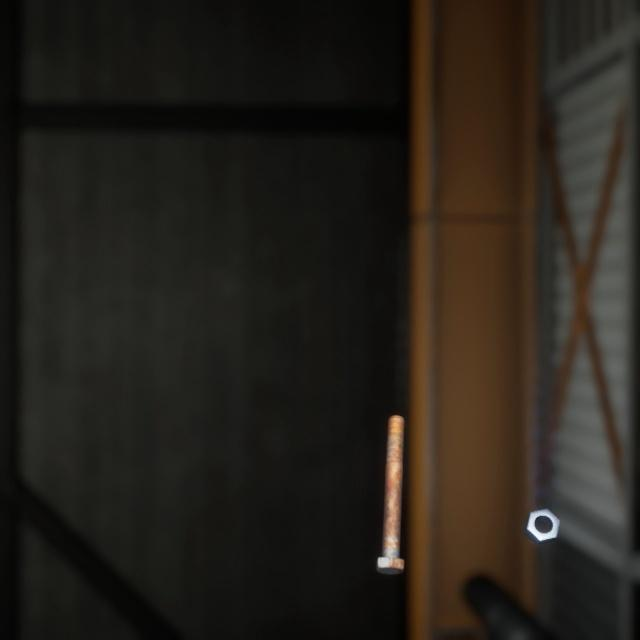bolt: (371, 390, 408, 558)
nut: (519, 482, 564, 527)
